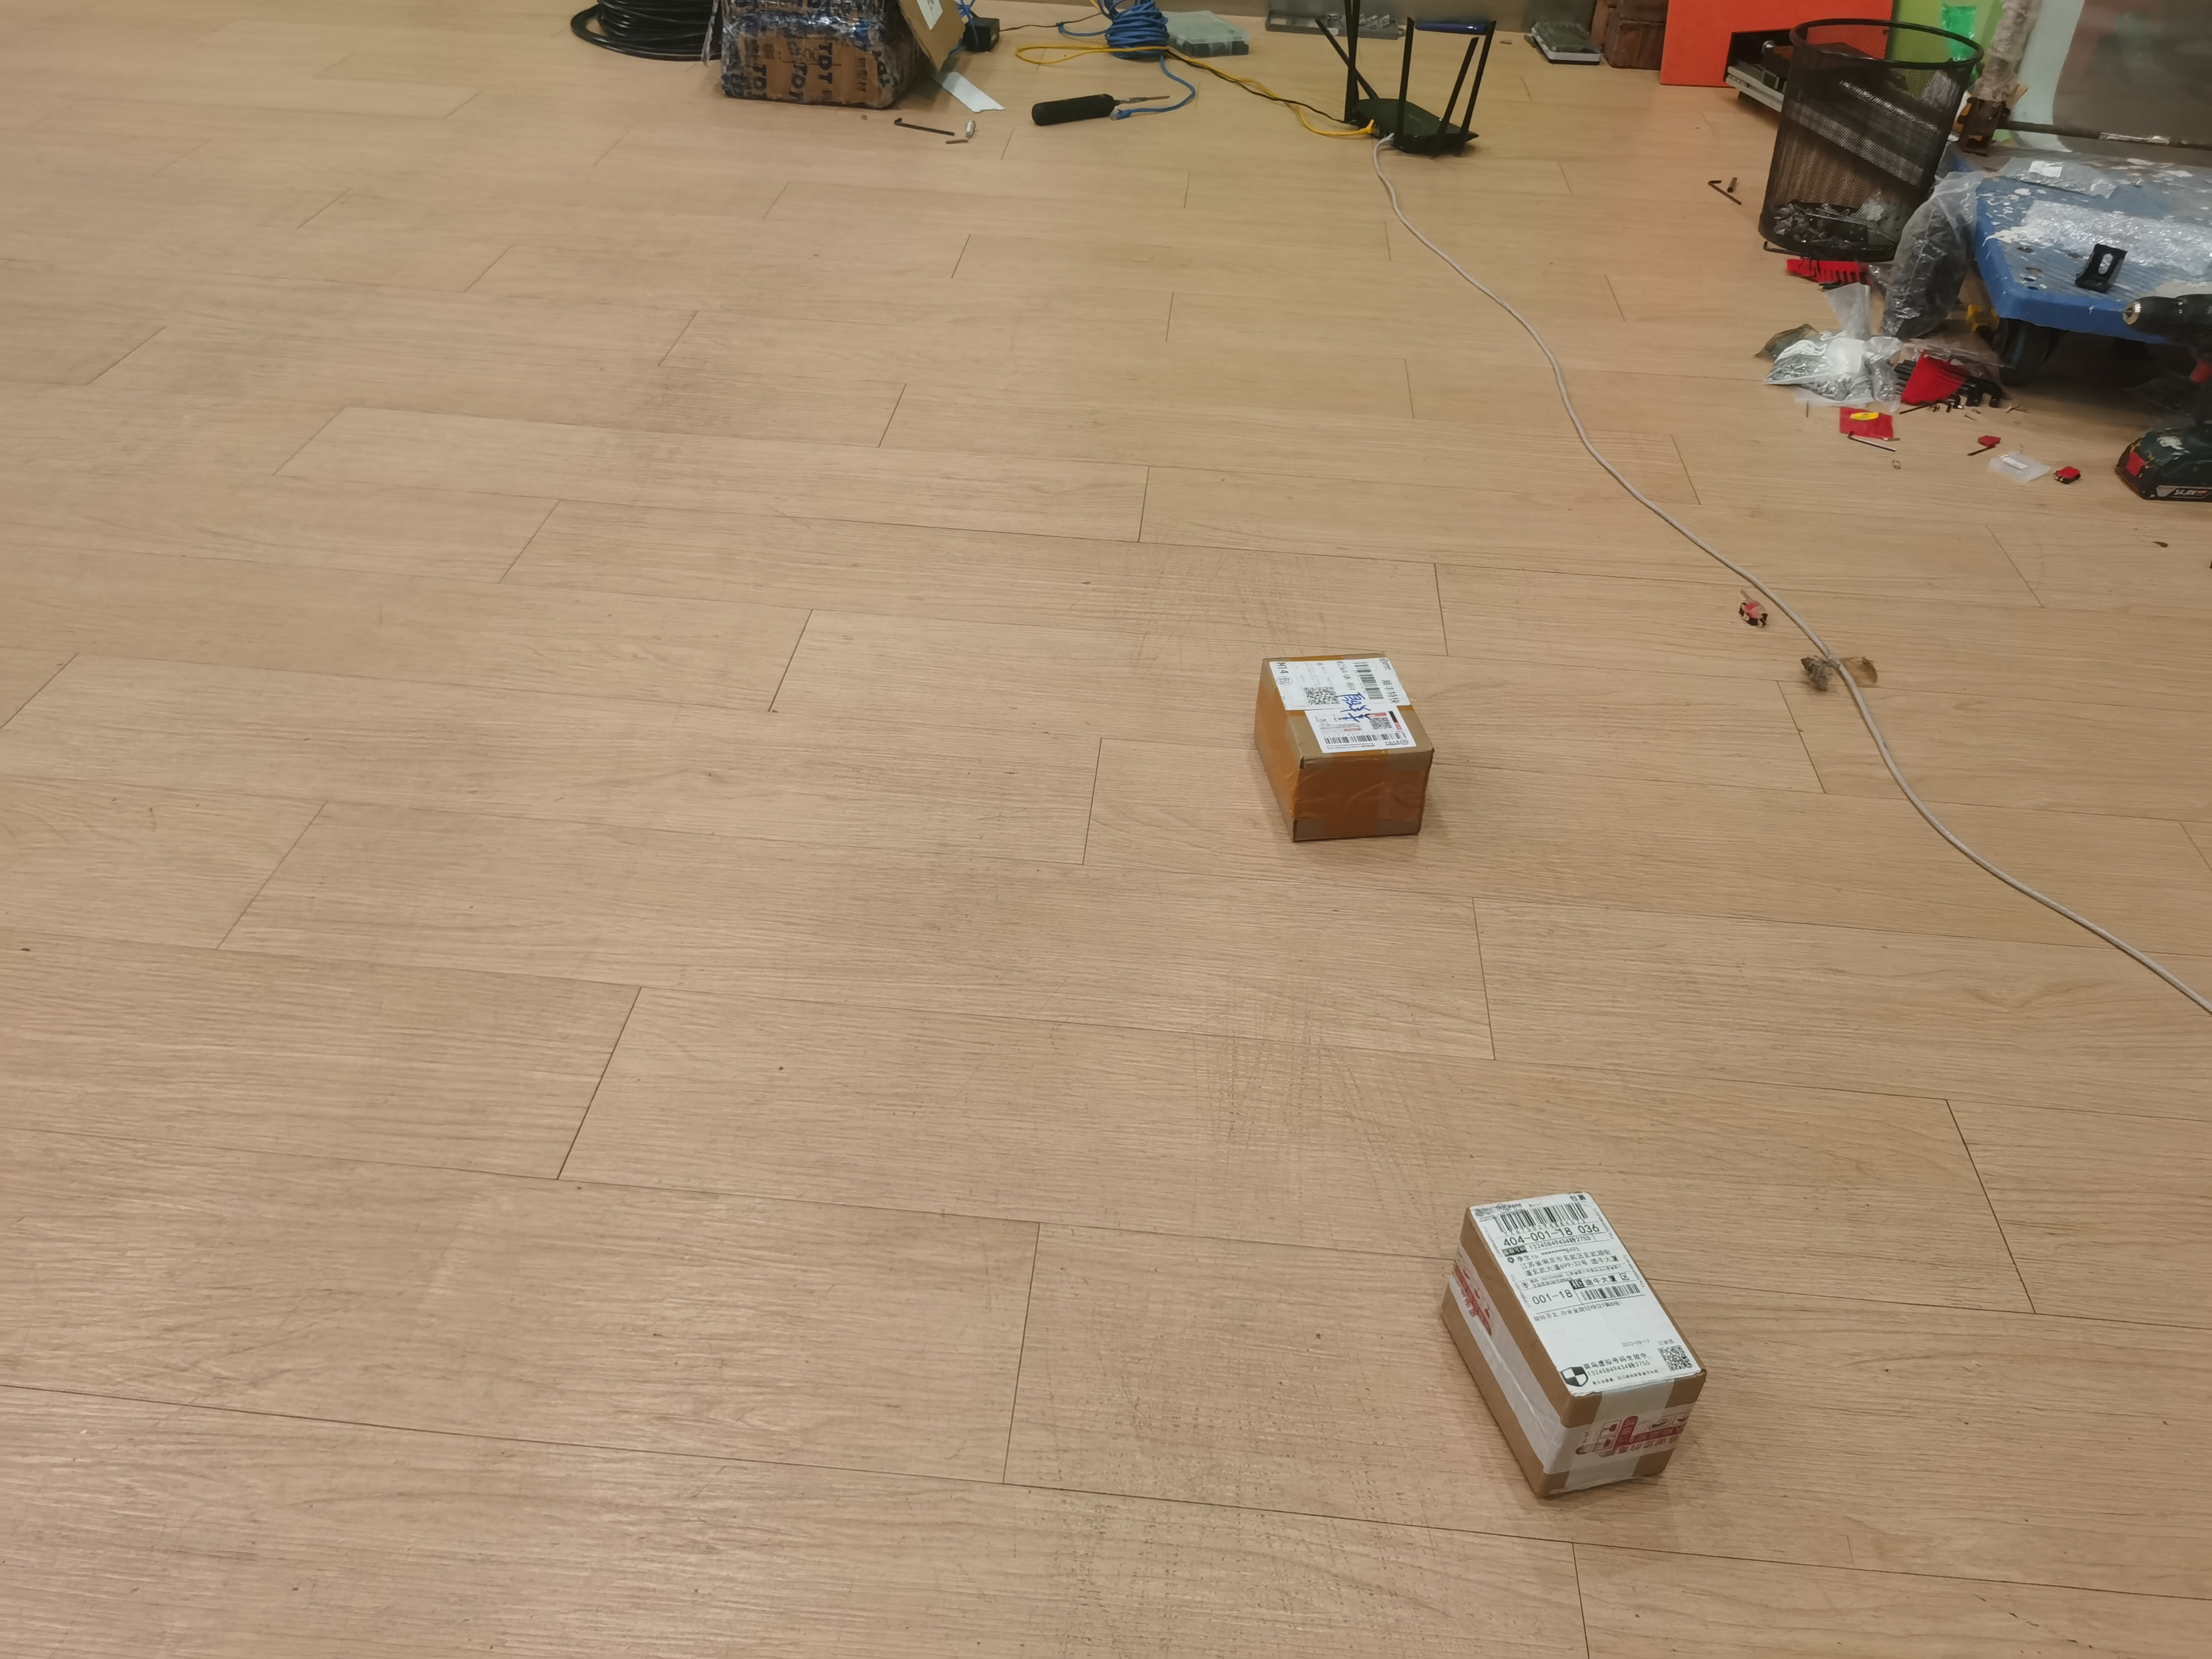box: (1425, 1185, 1723, 1516), (1244, 652, 1449, 859)
